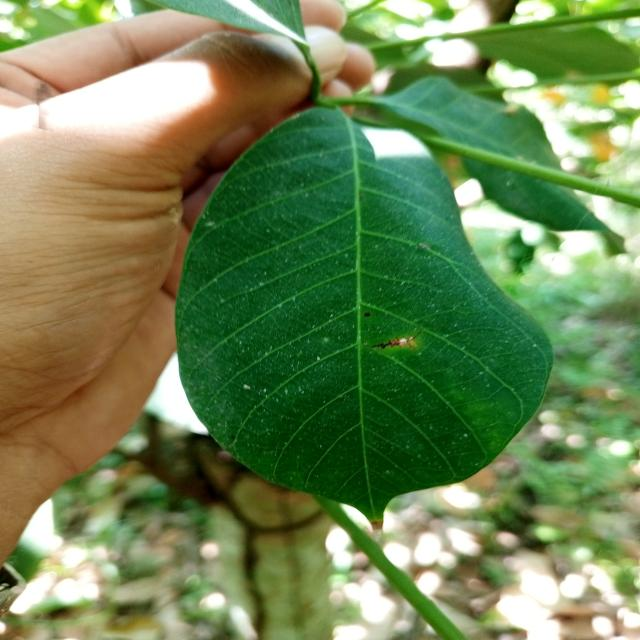Colletotrichum: (364, 312, 371, 317)
Corynespora: (372, 330, 422, 350)
